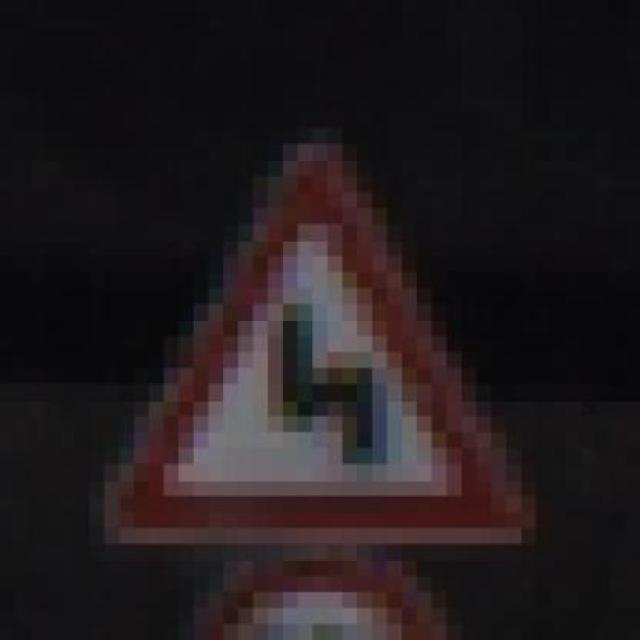Left Zig Zag Traffic: (89, 112, 566, 560)
